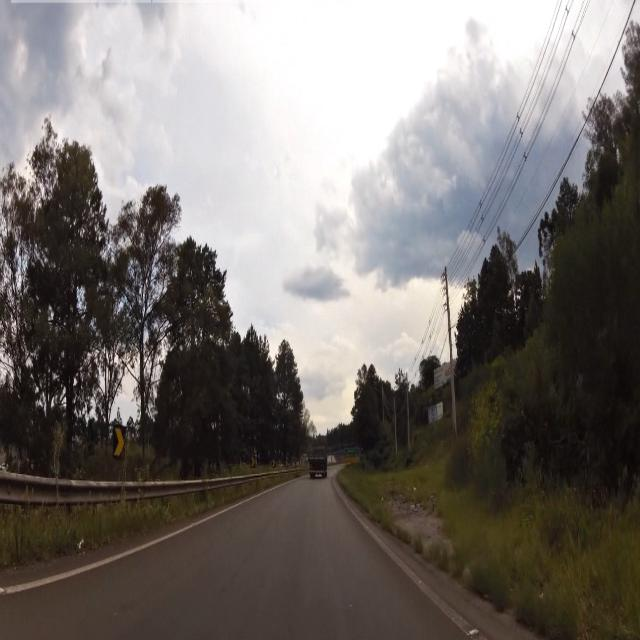Del: (113, 422, 126, 462)
